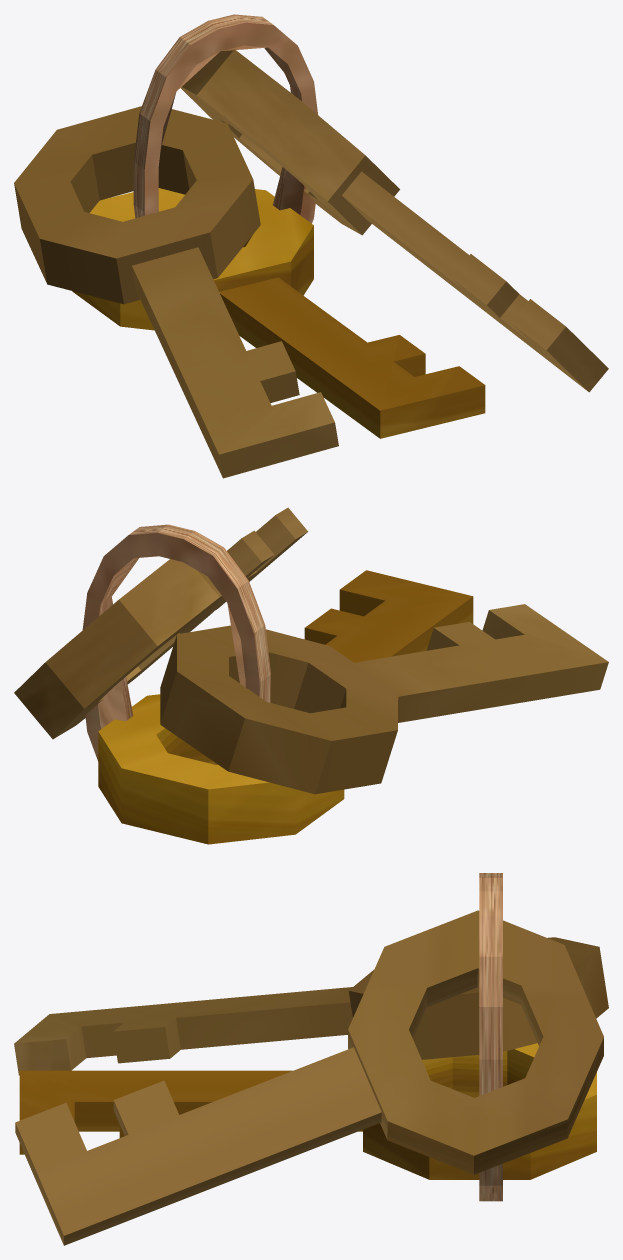
File: keys.fbx
The picture shows the model from 3 angles, top to bottom: view 1: azimuth 30°, elevation 25°; view 2: azimuth 150°, elevation 25°; view 3: azimuth 270°, elevation 25°; orthographic projection. The views are drawn at different scales.
Parts seen in each view (by area): view 1: keys; view 2: keys; view 3: keys.
Part boxes in pixels (<box>): keys: <box>14,14,608,478</box>; keys: <box>14,507,608,844</box>; keys: <box>14,873,608,1245</box>.
Bounding box in the file's own units: 91.97 × 63.79 × 113.
